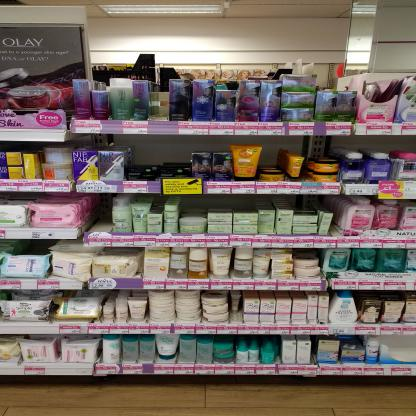Void: (133, 134, 187, 163), (212, 194, 259, 210), (87, 194, 106, 230), (306, 138, 333, 160), (180, 195, 205, 217), (190, 134, 221, 150), (265, 136, 281, 166), (322, 76, 354, 90), (17, 242, 45, 253), (294, 248, 320, 258)
